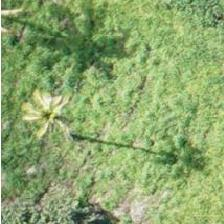coconut_tree: (0, 74, 88, 164)
